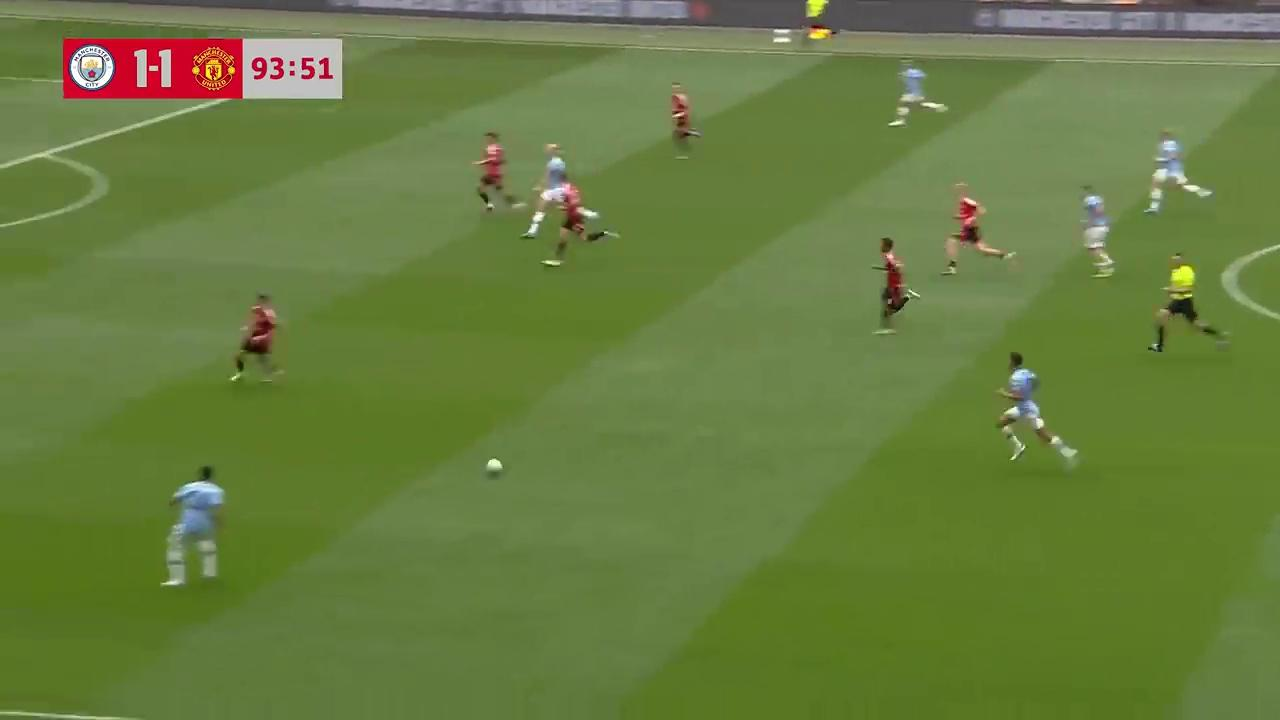ball: (484, 455, 504, 478)
player: (998, 353, 1076, 458), (159, 464, 225, 584), (545, 177, 618, 266), (941, 181, 1009, 274), (520, 140, 572, 239), (1144, 129, 1205, 211), (228, 292, 282, 384), (876, 237, 920, 330), (888, 62, 948, 126), (471, 131, 515, 214), (1080, 186, 1115, 274), (670, 82, 702, 153)
referee: (1148, 252, 1220, 355), (804, 0, 833, 43)
